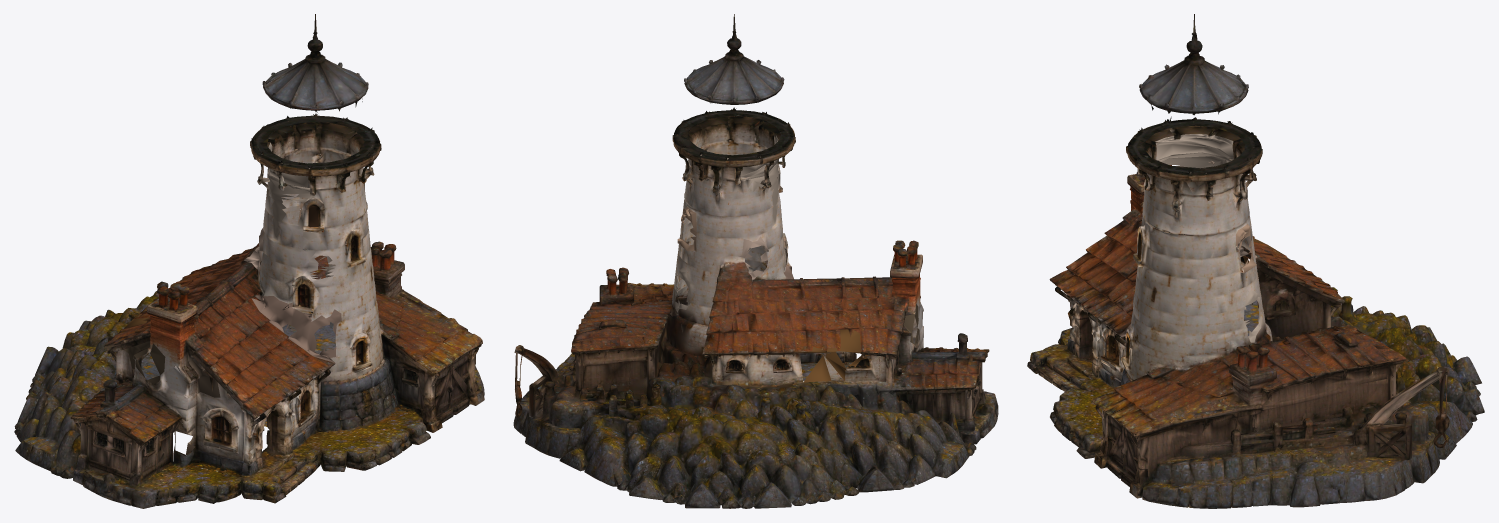
Rendered from lighthouse_exterior_v4.glb.
3 renders of one model, left to right at view 1: azimuth 30°, elevation 25°; view 2: azimuth 150°, elevation 25°; view 3: azimuth 270°, elevation 25°, orthographic. The views are drawn at different scales.
Visible parts, largest first — view 1: material; view 2: material; view 3: material.
Part boxes in pixels (<box>): material: <box>14,14,484,508</box>; material: <box>513,14,998,508</box>; material: <box>1027,14,1484,508</box>.
Size of the model in its own units: 30.05 by 27 by 27.07.
1 material, 1 textured.
